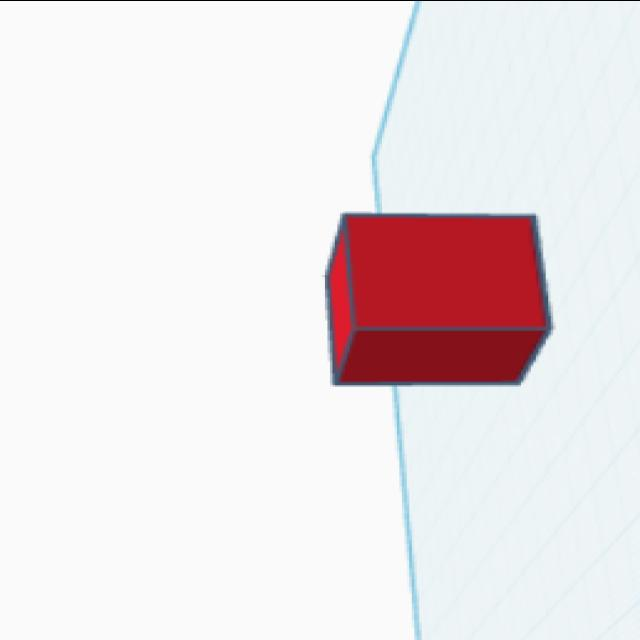cube: (312, 208, 558, 390)
